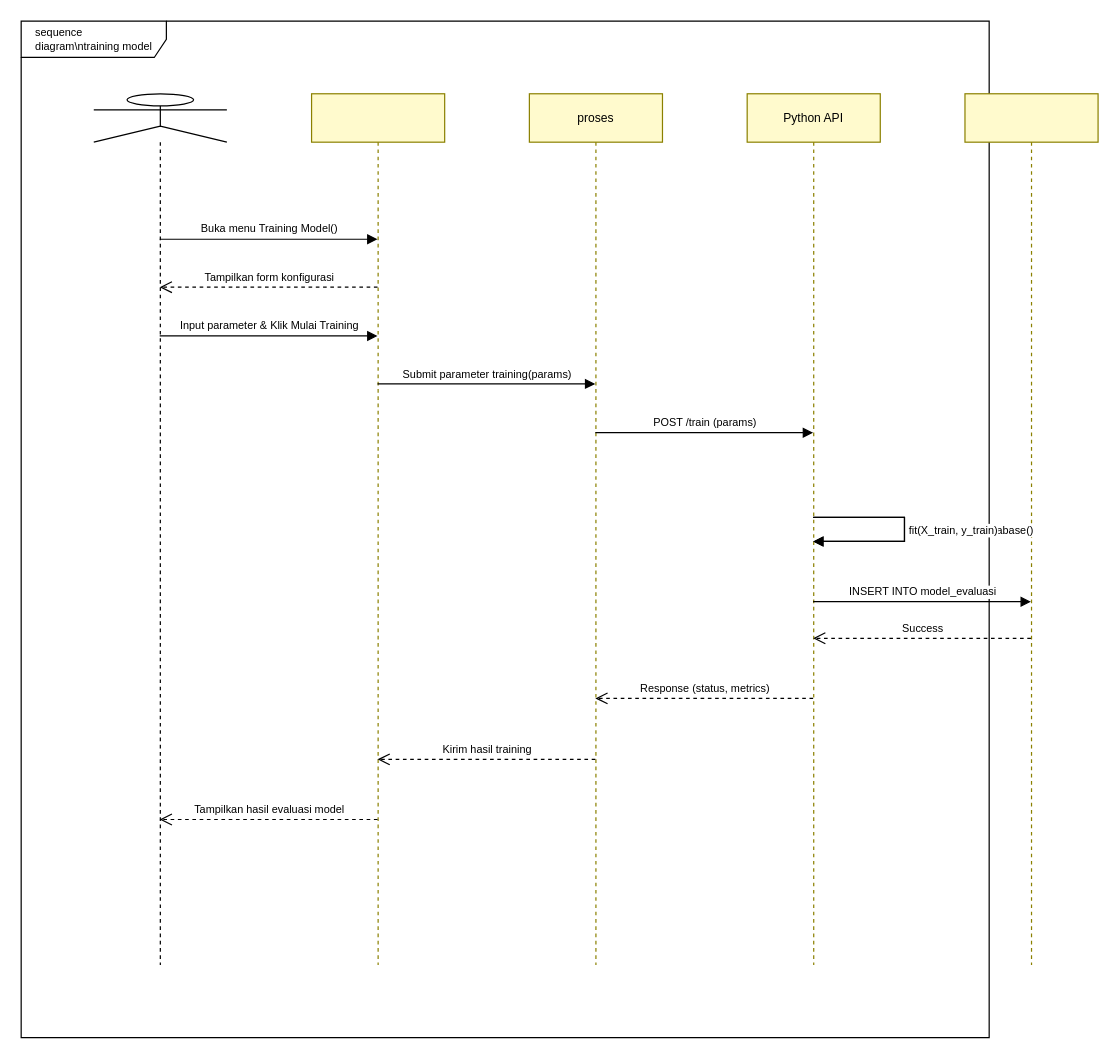
Some shapes in this 1119 by 1059 pixel diagram are drawn without their labels. Here are the shapes that lost their labels. From the top down, the box of each, then its label:
(310, 93, 445, 965): Halaman Training
(964, 93, 1098, 965): Database
